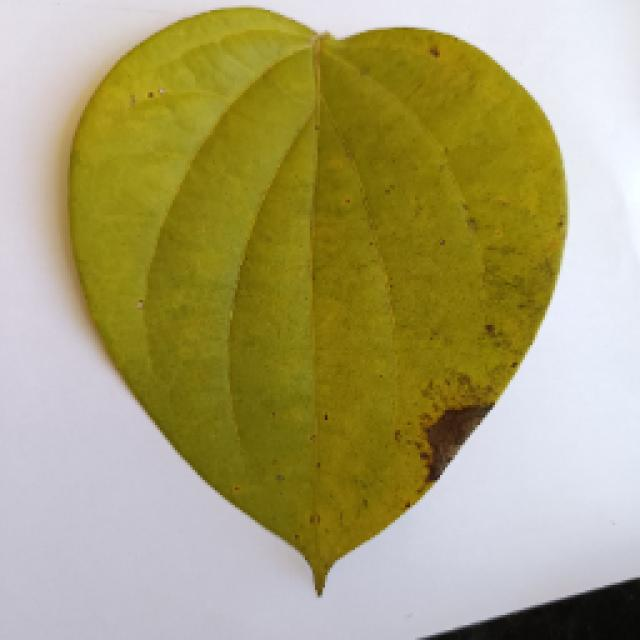slow-decline: (32, 20, 610, 622)
